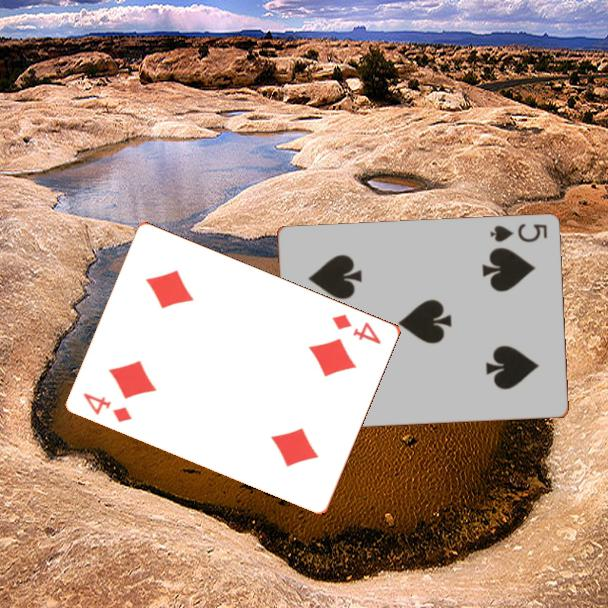d04: (329, 310, 384, 347), (80, 389, 135, 425)
s05: (487, 220, 550, 245)
